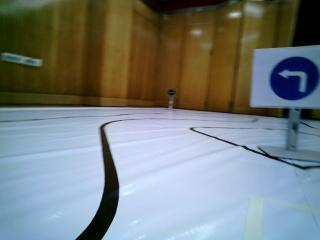left: (253, 49, 320, 110)
